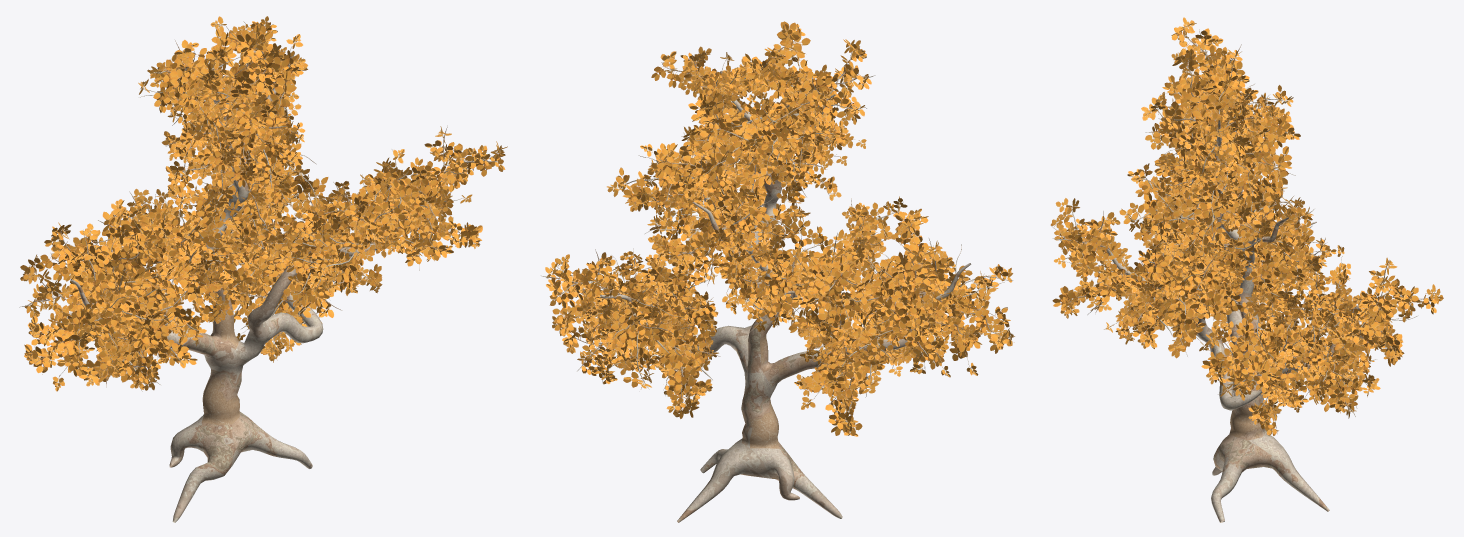
File: Tree_1_2_Orange.fbx
3 views of the same model, side by side, from view 1: azimuth 30°, elevation 25°; view 2: azimuth 150°, elevation 25°; view 3: azimuth 270°, elevation 25° (orthographic). The views are drawn at different scales.
Visible parts, largest first — view 1: Tree_1_2_Orange_LOD0; view 2: Tree_1_2_Orange_LOD0; view 3: Tree_1_2_Orange_LOD0.
Part boxes in pixels (box(x1,y1,x2,y2)): Tree_1_2_Orange_LOD0: box(19, 16, 507, 522); Tree_1_2_Orange_LOD0: box(541, 21, 1014, 522); Tree_1_2_Orange_LOD0: box(1050, 17, 1443, 522).
Size of what is drawn, in the model's own units: 1422 by 1541 by 1214.
